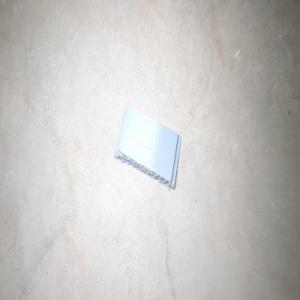PlasticPart: (113, 104, 181, 190)
